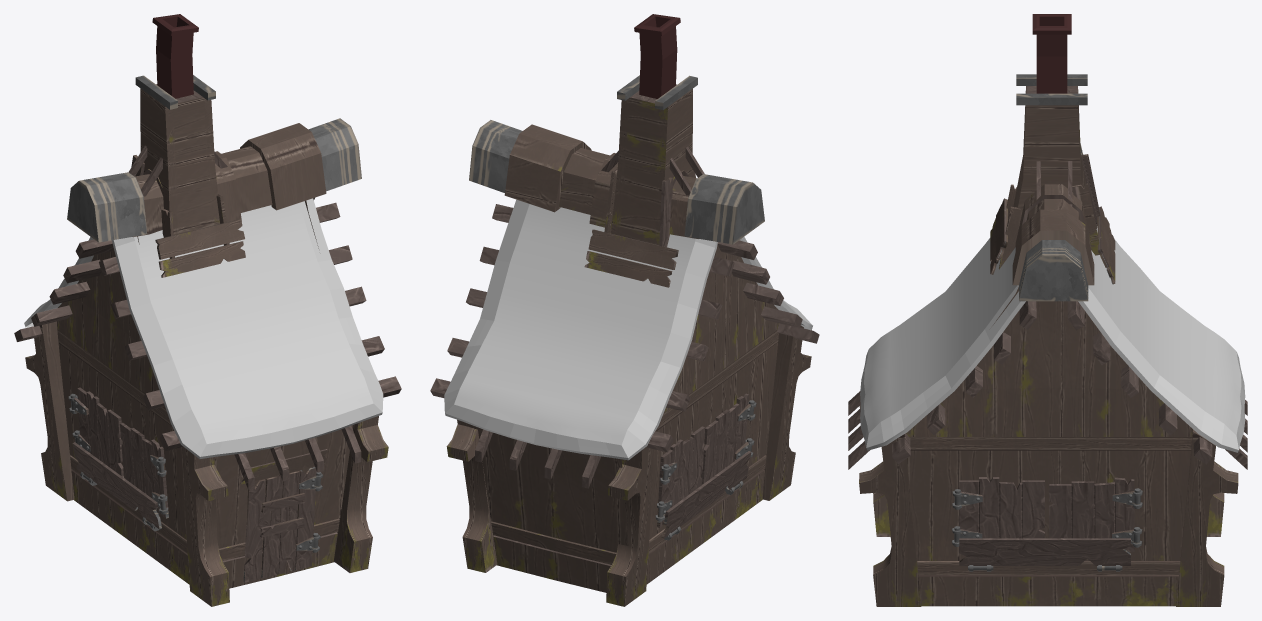
File: SM_House_Tiny01.fbx
3 views of the same model, side by side, from view 1: azimuth 30°, elevation 25°; view 2: azimuth 150°, elevation 25°; view 3: azimuth 270°, elevation 25° (orthographic). The views are drawn at different scales.
Visible parts, largest first — view 1: Object237, Object234, Object232, Box286, Object250, Box285, Box283, Object236, Object235, Object248, Object243, Box291 (+5 smaller); view 2: Object246, Object234, Box284, Object232, Box286, Object250, Object248, Object236, Object249, Object243, Box290, Object244 (+5 smaller); view 3: Object233, Object237, Object246, Object251, Box286, Object232, Object249, Object235, Object243, Box292, Box289, Box287 (+4 smaller).
Part boxes in pixels (bbox=[...]): Object237: bbox=[112, 198, 383, 458]; Object234: bbox=[57, 236, 189, 584]; Object232: bbox=[67, 118, 361, 242]; Box286: bbox=[129, 75, 229, 258]; Object250: bbox=[68, 387, 168, 531]; Box285: bbox=[240, 449, 327, 582]; Box283: bbox=[214, 425, 353, 588]; Object236: bbox=[182, 446, 229, 606]; Object235: bbox=[333, 416, 388, 572]; Object248: bbox=[25, 321, 74, 501]; Object243: bbox=[152, 14, 198, 98]; Box291: bbox=[14, 239, 113, 341]; Object246: bbox=[444, 199, 717, 460]; Object234: bbox=[646, 245, 779, 584]; Box284: bbox=[469, 424, 628, 592]; Object232: bbox=[469, 120, 764, 244]; Box286: bbox=[601, 75, 704, 247]; Object250: bbox=[655, 393, 756, 540]; Object248: bbox=[606, 447, 653, 606]; Object236: bbox=[762, 325, 811, 500]; Object249: bbox=[446, 420, 497, 572]; Object243: bbox=[634, 14, 680, 98]; Box290: bbox=[717, 240, 819, 343]; Object244: bbox=[588, 229, 678, 269]; Object233: bbox=[906, 287, 1192, 606]; Object237: bbox=[860, 238, 1025, 450]; Object246: bbox=[1078, 226, 1245, 452]; Object251: bbox=[952, 477, 1142, 571]; Box286: bbox=[999, 74, 1100, 269]; Object232: bbox=[1012, 143, 1094, 301]; Object249: bbox=[1176, 429, 1238, 606]; Object235: bbox=[859, 434, 921, 606]; Object243: bbox=[1032, 14, 1071, 93]; Box292: bbox=[1067, 301, 1212, 464]; Box289: bbox=[892, 301, 1036, 464]; Box287: bbox=[848, 391, 869, 469].
Bounding box in the file's own units: 402 × 750 × 509.
